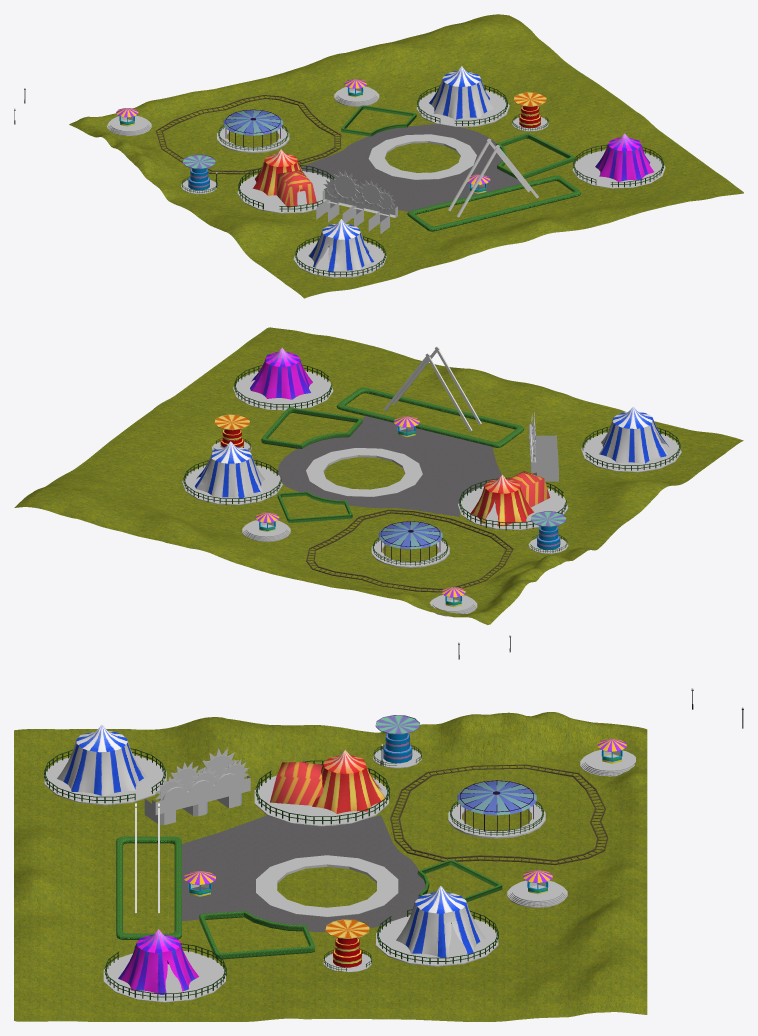
Rendered from StaticObjects.FBX.
The picture shows the model from 3 angles, top to bottom: view 1: azimuth 30°, elevation 25°; view 2: azimuth 150°, elevation 25°; view 3: azimuth 270°, elevation 25°; orthographic projection. The views are drawn at different scales.
Parts seen in each view (by area): view 1: Cylinder007; view 2: Cylinder007; view 3: Cylinder007.
Part boxes in pixels (bbox=[...]): Cylinder007: bbox=[14, 14, 743, 298]; Cylinder007: bbox=[14, 327, 743, 659]; Cylinder007: bbox=[14, 688, 743, 1021].
Bounding box in the file's own units: 11946 × 1596 × 11784.
